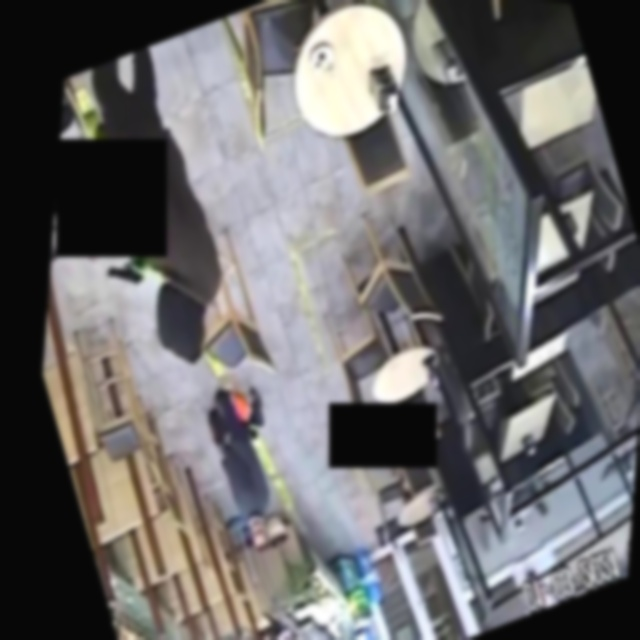gun: (89, 257, 163, 319)
